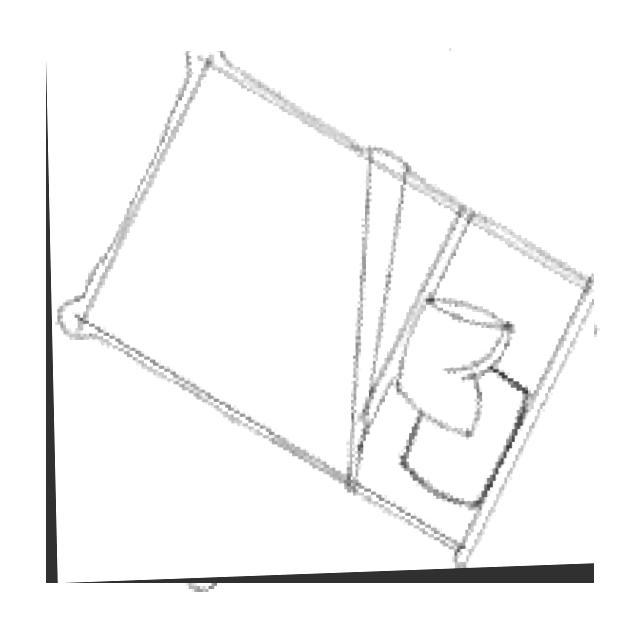bed: (46, 51, 594, 583)
